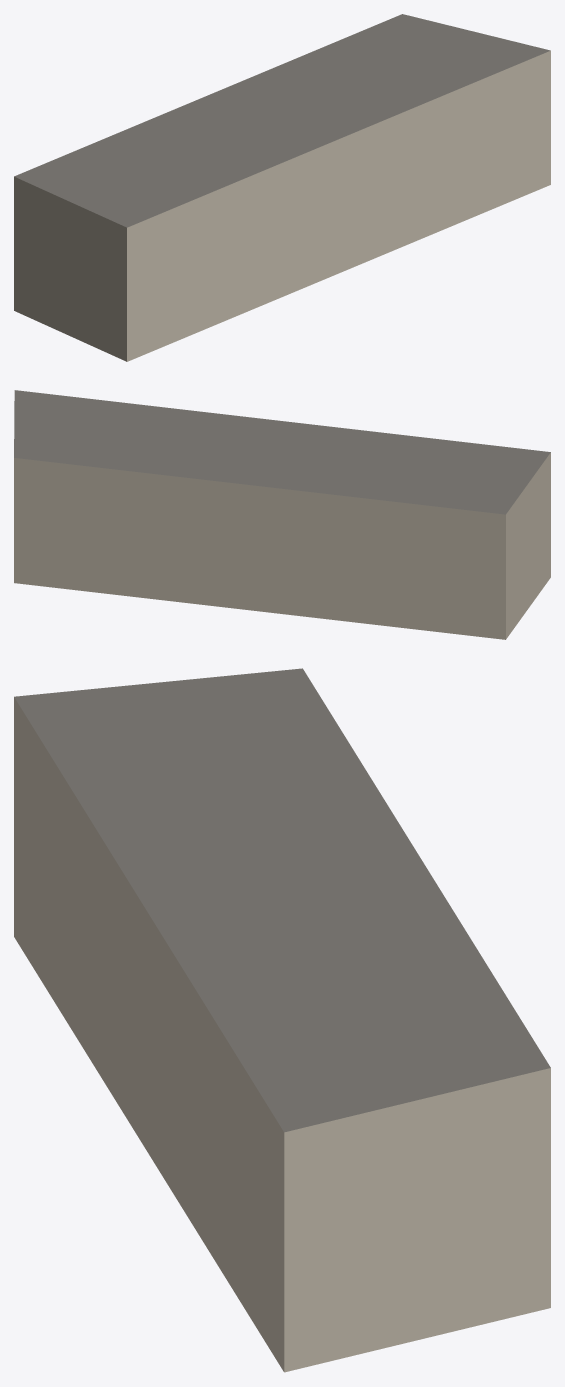
The picture shows the model from 3 angles, top to bottom: view 1: azimuth 30°, elevation 25°; view 2: azimuth 150°, elevation 25°; view 3: azimuth 270°, elevation 25°; orthographic projection. The views are drawn at different scales.
Parts seen in each view (by area): view 1: HP-w756799591; view 2: HP-w756799591; view 3: HP-w756799591.
Part boxes in pixels (x1=…): HP-w756799591: x1=14, y1=14, x2=550, y2=361; HP-w756799591: x1=14, y1=390, x2=550, y2=639; HP-w756799591: x1=14, y1=668, x2=550, y2=1372.
Bounding box in the file's own units: 49.74 × 12 × 24.33.
